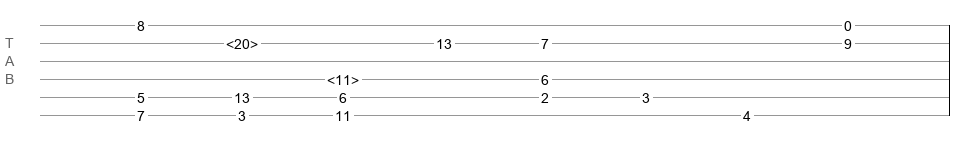0: (844, 18, 852, 28)
11: (335, 108, 351, 118)
13: (234, 90, 250, 100), (436, 36, 452, 46)
2: (541, 90, 549, 100)
3: (238, 108, 246, 118), (642, 90, 650, 100)
4: (743, 108, 751, 118)
5: (137, 90, 145, 100)
6: (339, 90, 347, 100), (541, 72, 549, 82)
7: (137, 108, 145, 118), (541, 36, 549, 46)
8: (137, 18, 145, 28)
9: (844, 36, 852, 46)
harmonic: (226, 36, 258, 46), (327, 72, 359, 82)
